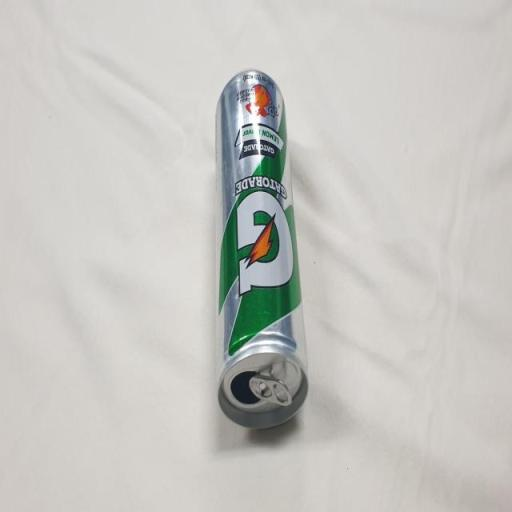metal: (200, 36, 306, 468)
